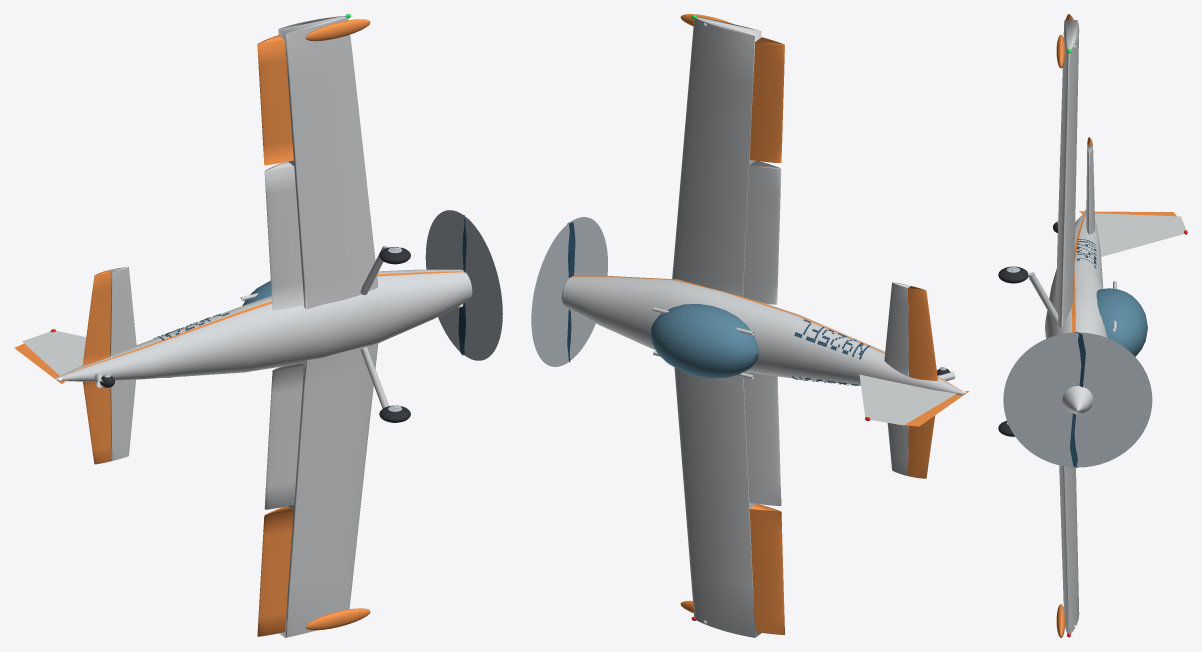
File: exterior.glb
3 views of the same model, side by side, from view 1: azimuth 30°, elevation 25°; view 2: azimuth 150°, elevation 25°; view 3: azimuth 270°, elevation 25° (orthographic). The views are drawn at different scales.
Visible parts, largest first — view 1: airframe, wing_right, wing_left, prop_blur, flaps_right, flaps_left, aileron_right, aileron_left, elevator_right, stabilizer_right, vertical_stabilizer, elevator_left (+3 smaller); view 2: wing_right, wing_left, airframe, prop_blur, canopy, flaps_right, flaps_left, aileron_left, aileron_right, vertical_stabilizer, elevator_right, stabilizer_right (+3 smaller); view 3: prop_blur, wing_right, airframe, vertical_stabilizer, wing_left, canopy, stabilizer_right, spinner, propeller, wheel_1, rudder.
Part boxes in pixels (x1=…): airframe: x1=55, y1=246, x2=471, y2=408; wing_right: x1=278, y1=16, x2=378, y2=309; wing_left: x1=279, y1=343, x2=378, y2=637; prop_blur: x1=425, y1=210, x2=502, y2=360; flaps_right: x1=264, y1=161, x2=304, y2=310; flaps_left: x1=264, y1=363, x2=304, y2=509; aileron_right: x1=257, y1=35, x2=293, y2=165; aileron_left: x1=257, y1=506, x2=293, y2=636; elevator_right: x1=82, y1=270, x2=111, y2=365; stabilizer_right: x1=109, y1=267, x2=136, y2=356; vertical_stabilizer: x1=22, y1=330, x2=86, y2=375; elevator_left: x1=83, y1=381, x2=111, y2=464; wing_right: x1=672, y1=17, x2=761, y2=296; wing_left: x1=674, y1=367, x2=761, y2=637; airframe: x1=563, y1=276, x2=964, y2=395; prop_blur: x1=531, y1=217, x2=607, y2=366; canopy: x1=650, y1=304, x2=758, y2=378; flaps_right: x1=743, y1=160, x2=781, y2=304; flaps_left: x1=743, y1=372, x2=781, y2=505; aileron_left: x1=749, y1=504, x2=784, y2=634; aileron_right: x1=749, y1=37, x2=784, y2=162; vertical_stabilizer: x1=859, y1=374, x2=956, y2=425; elevator_right: x1=908, y1=286, x2=938, y2=380; stabilizer_right: x1=884, y1=282, x2=910, y2=376; prop_blur: x1=1003, y1=332, x2=1152, y2=467; wing_right: x1=1055, y1=20, x2=1079, y2=327; airframe: x1=1028, y1=211, x2=1116, y2=338; vertical_stabilizer: x1=1095, y1=213, x2=1185, y2=256; wing_left: x1=1059, y1=465, x2=1079, y2=633; canopy: x1=1096, y1=288, x2=1147, y2=356; stabilizer_right: x1=1086, y1=144, x2=1095, y2=234; spinner: x1=1062, y1=386, x2=1093, y2=414; propeller: x1=1070, y1=331, x2=1085, y2=467; wheel_1: x1=998, y1=266, x2=1028, y2=284; rudder: x1=1079, y1=211, x2=1176, y2=216.
Bounding box in the file's own units: 5.9 × 8.05 × 2.35.
